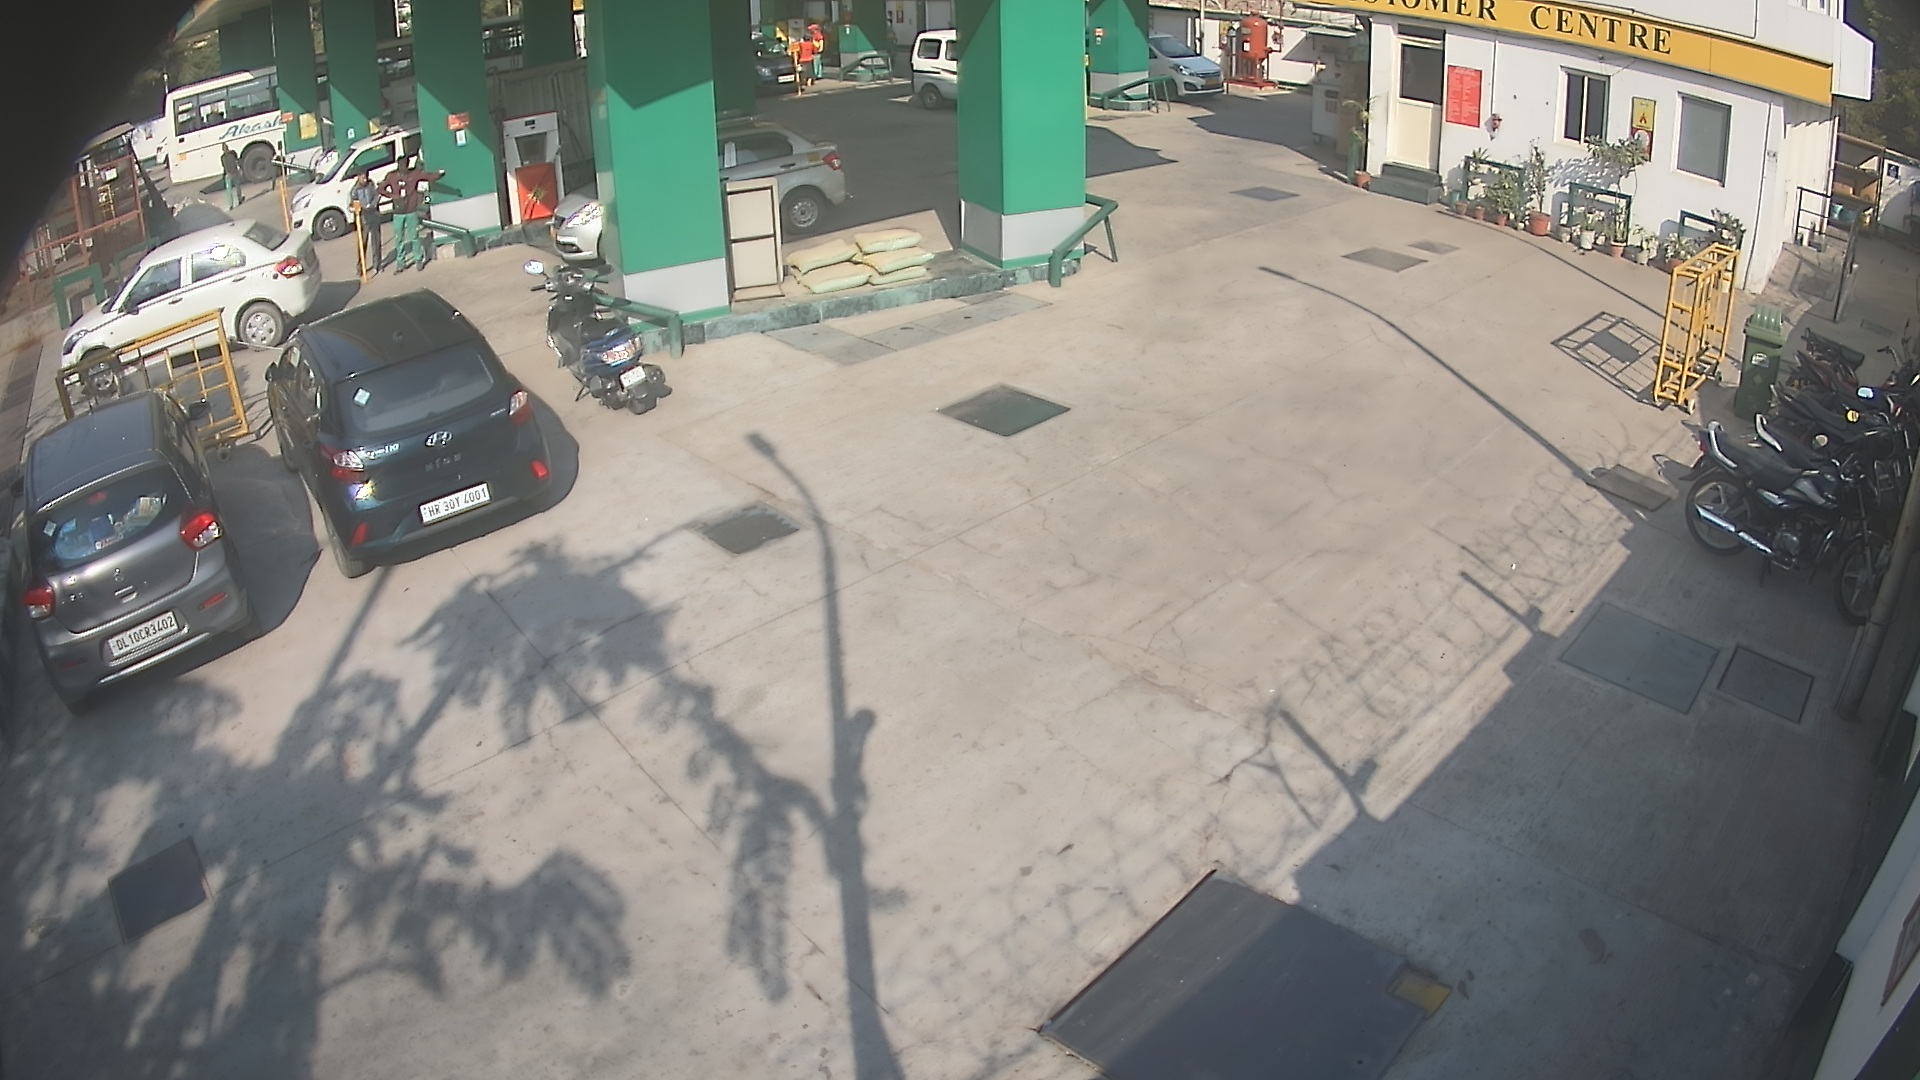Bike: (1662, 404, 1915, 626), (1739, 393, 1917, 554), (512, 248, 676, 419), (1753, 372, 1917, 502), (1770, 295, 1917, 429), (1776, 339, 1917, 467)
Car: (251, 272, 560, 591), (1, 377, 273, 723), (45, 204, 335, 413), (699, 102, 847, 258), (280, 113, 433, 255), (1127, 15, 1241, 107), (727, 12, 823, 111), (898, 22, 982, 121), (291, 109, 349, 191), (146, 120, 179, 181)
HMV: (454, 34, 612, 200), (146, 46, 309, 206), (49, 104, 156, 237), (454, 3, 556, 95)
Others: (800, 13, 829, 98)
Others Other: (344, 191, 375, 287), (274, 164, 299, 247), (786, 34, 808, 105), (274, 135, 295, 206)
